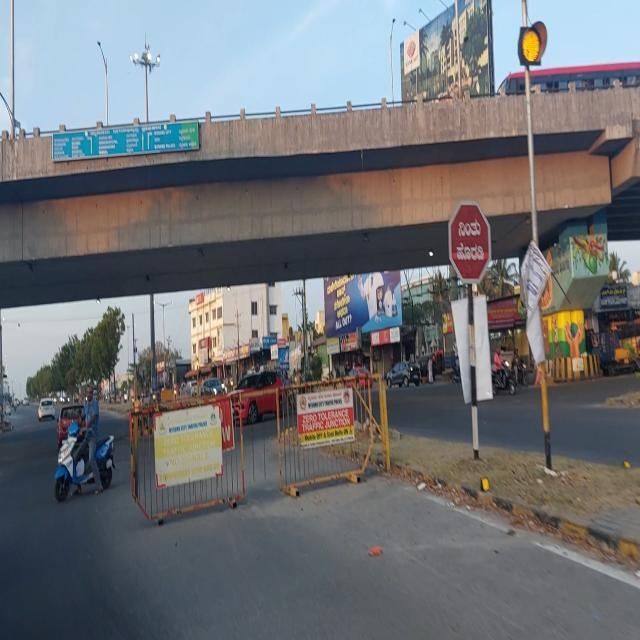bien_chi_dan: (449, 200, 492, 284)
